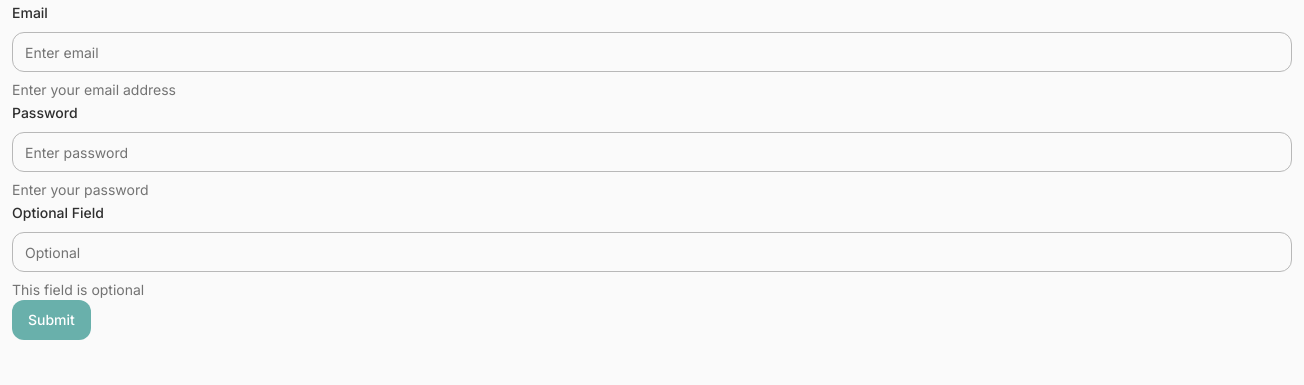
Test: Form Components › Form › displays validation errors on invalid input
The width and height of the screenshot is (1304, 385).
Type "invalid-email" into the field labelled "Email" at (652, 52), box [12,32,1292,72]
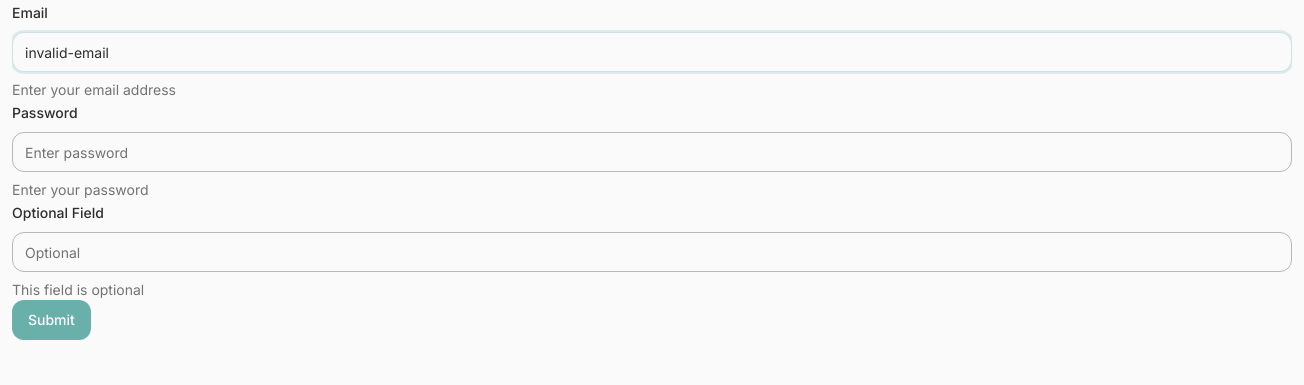
Press Tab
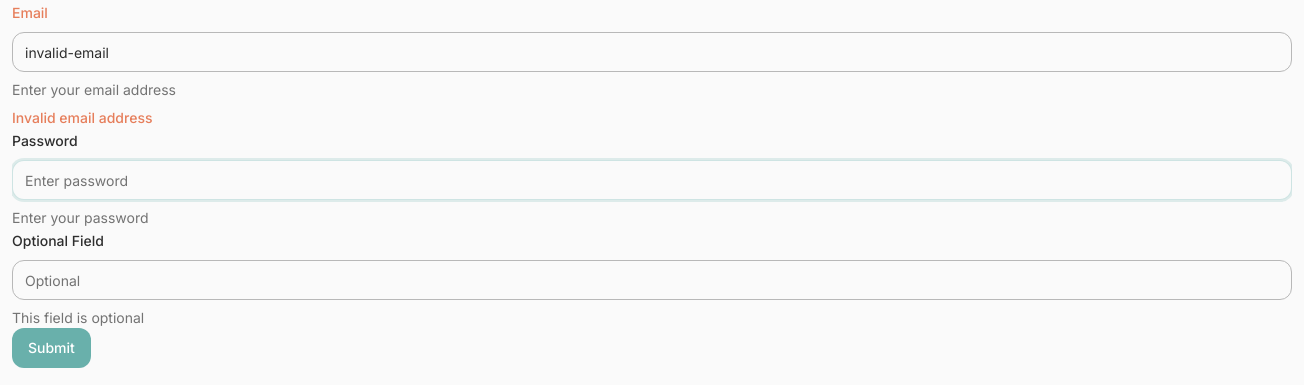
Now the text "Invalid email address" is shown, box [12,109,152,126]
